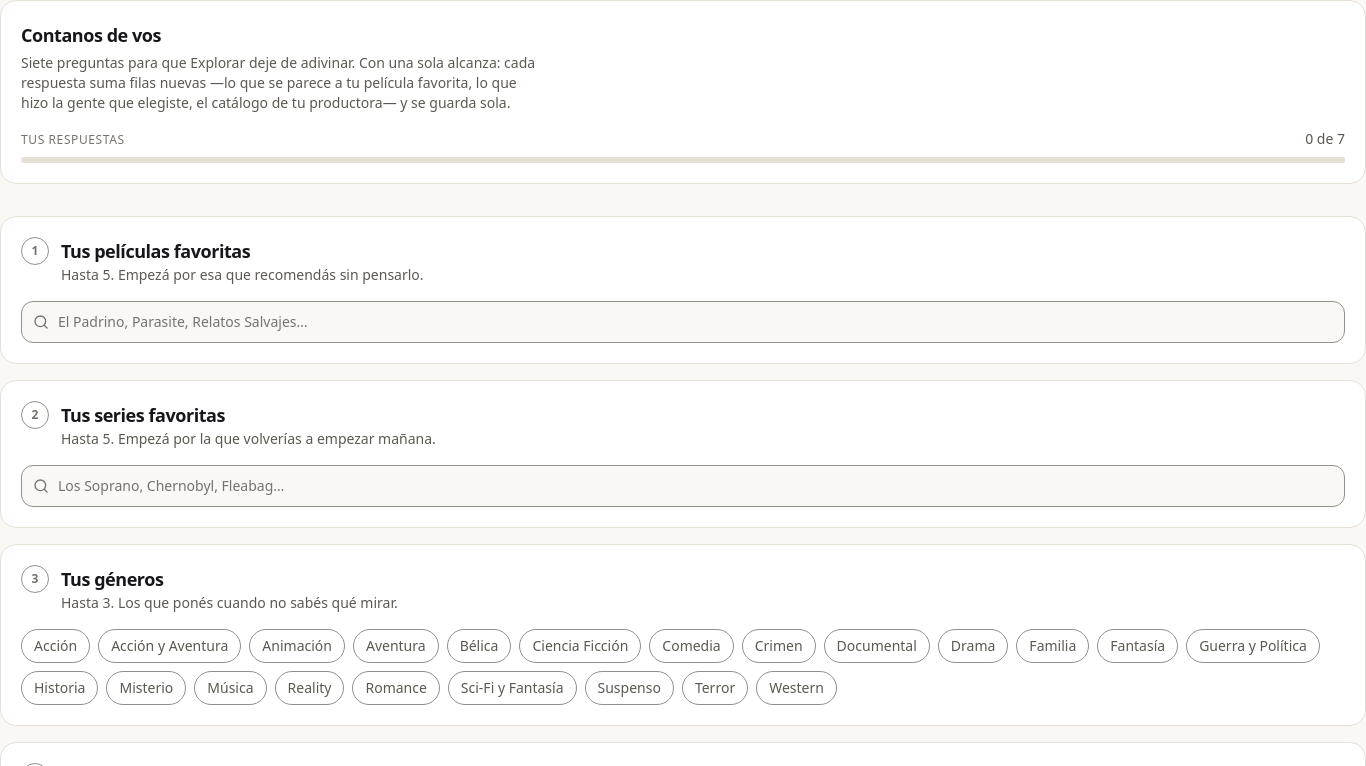
Test: Contanos de vos › vuelve a sacar un género al tocarlo de nuevo
Click the button "Comedia" at {"x": 692, "y": 646}, box x1=649 y1=629 x2=734 y2=663
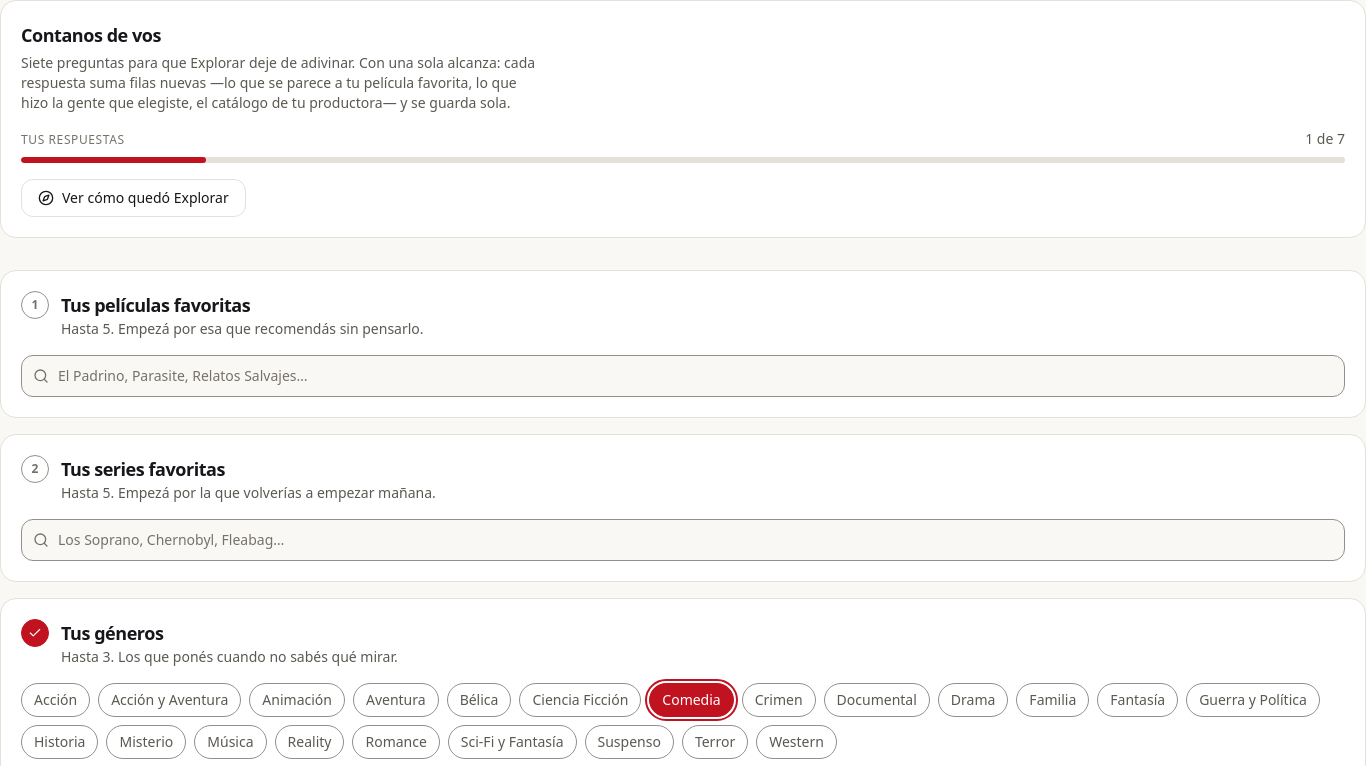
Click the button "Comedia" at {"x": 692, "y": 700}, box x1=649 y1=683 x2=734 y2=717
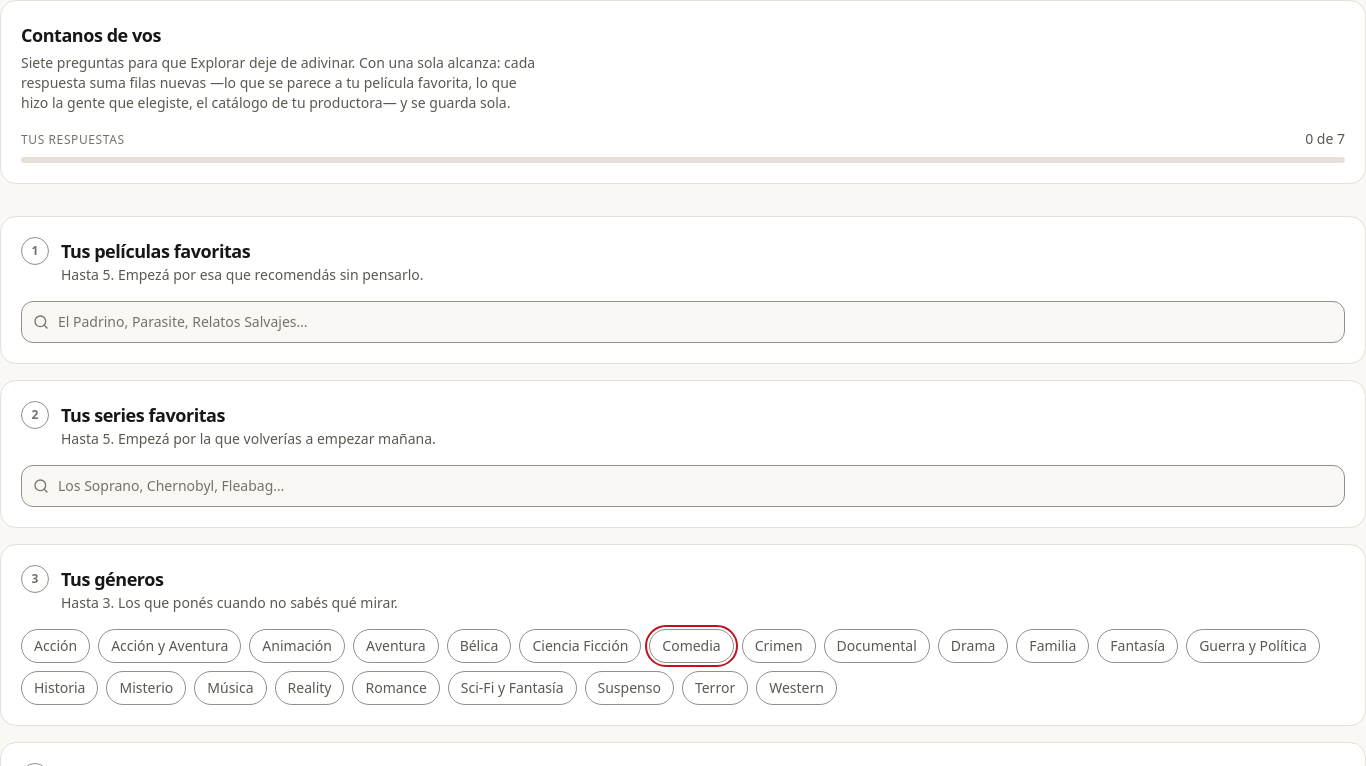
Result: the text "0 de 7" is shown at x1=1305 y1=129 x2=1345 y2=149
